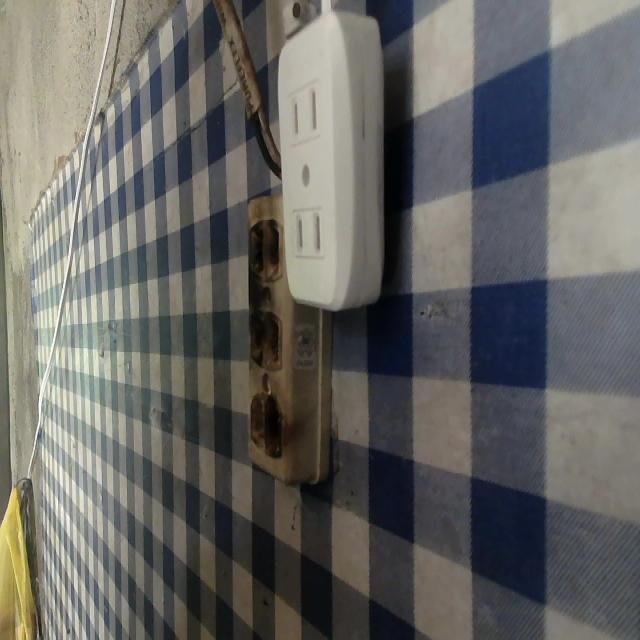-: (246, 391, 292, 466), (245, 304, 290, 373), (243, 215, 284, 277)
